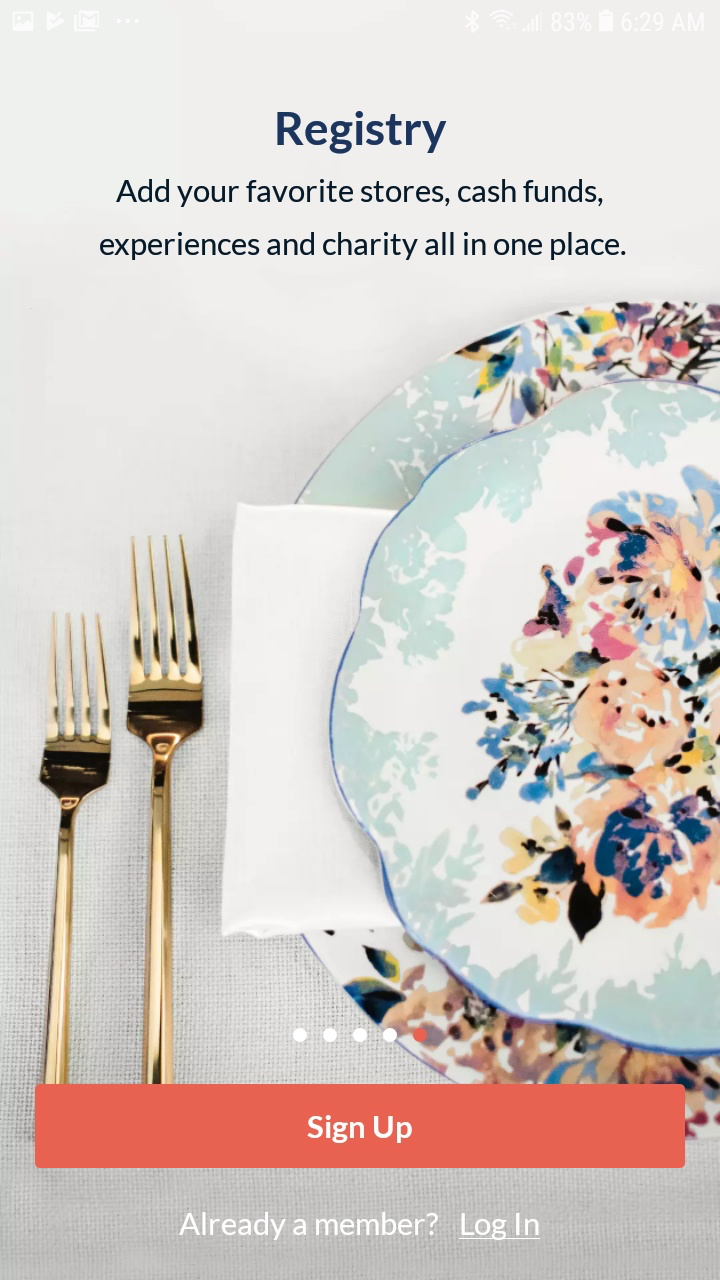BackgroundImage: (1, 35, 720, 1280)
PageIndicator: (292, 1027, 428, 1043)
Text: (100, 231, 626, 261), (116, 179, 603, 209), (178, 1211, 439, 1241), (277, 111, 448, 155), (459, 1212, 541, 1241)
TextButton: (36, 1084, 686, 1169)
UpperTaskBar: (1, 1, 720, 35)
